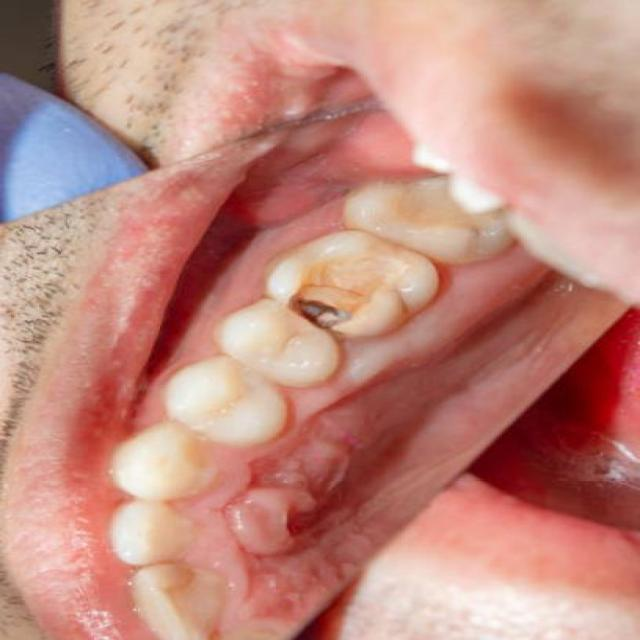caries: (252, 243, 419, 344)
